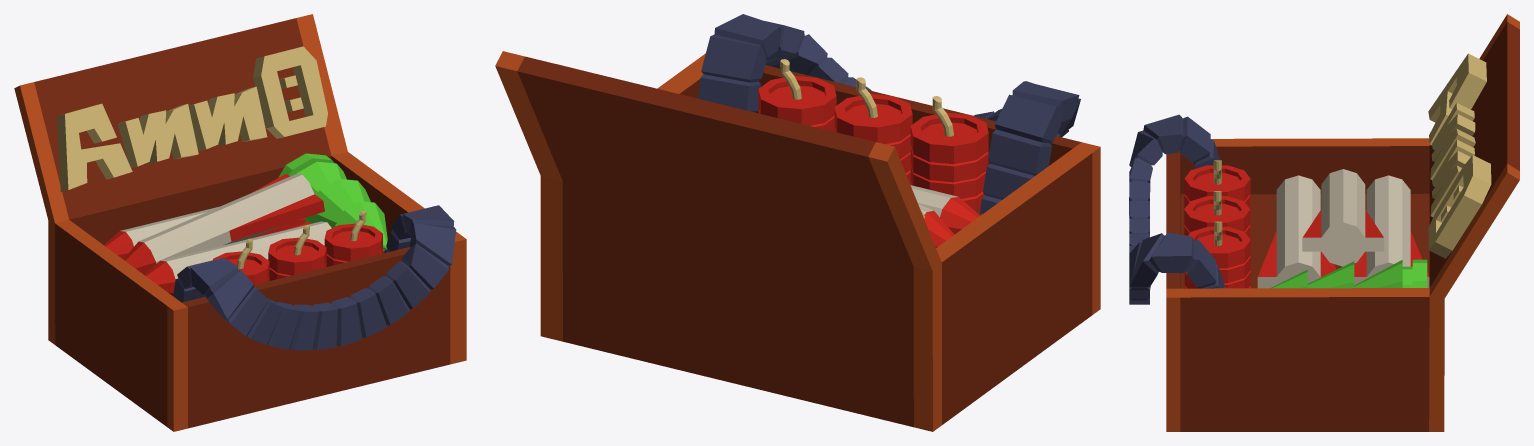
Rendered from 弾薬BOX.fbx.
3 renders of one model, left to right at view 1: azimuth 30°, elevation 25°; view 2: azimuth 150°, elevation 25°; view 3: azimuth 270°, elevation 25°, orthographic. The views are drawn at different scales.
Visible parts, largest first — view 1: obj1; view 2: obj1; view 3: obj1.
Boxes of the visible parts, x1,y1,x2,y2 form: obj1: (14, 14, 466, 431); obj1: (495, 14, 1100, 431); obj1: (1129, 14, 1519, 431).
Size of the model in its own units: 200 by 153 by 208.
